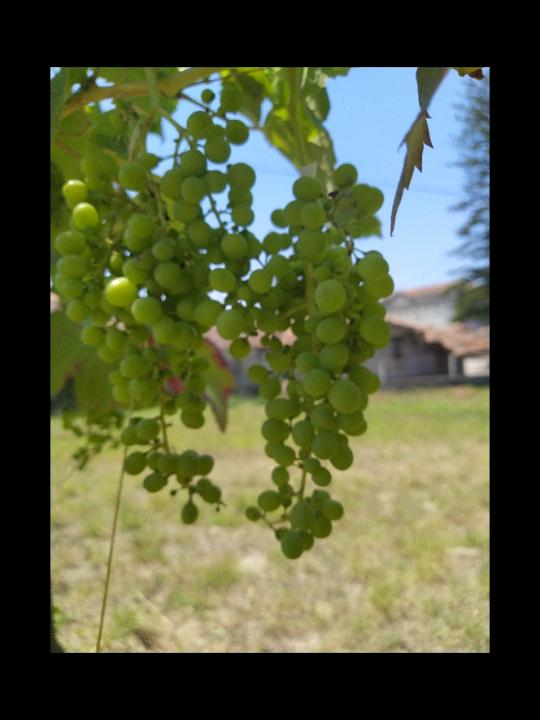grape: (55, 90, 257, 526), (230, 162, 396, 564)
